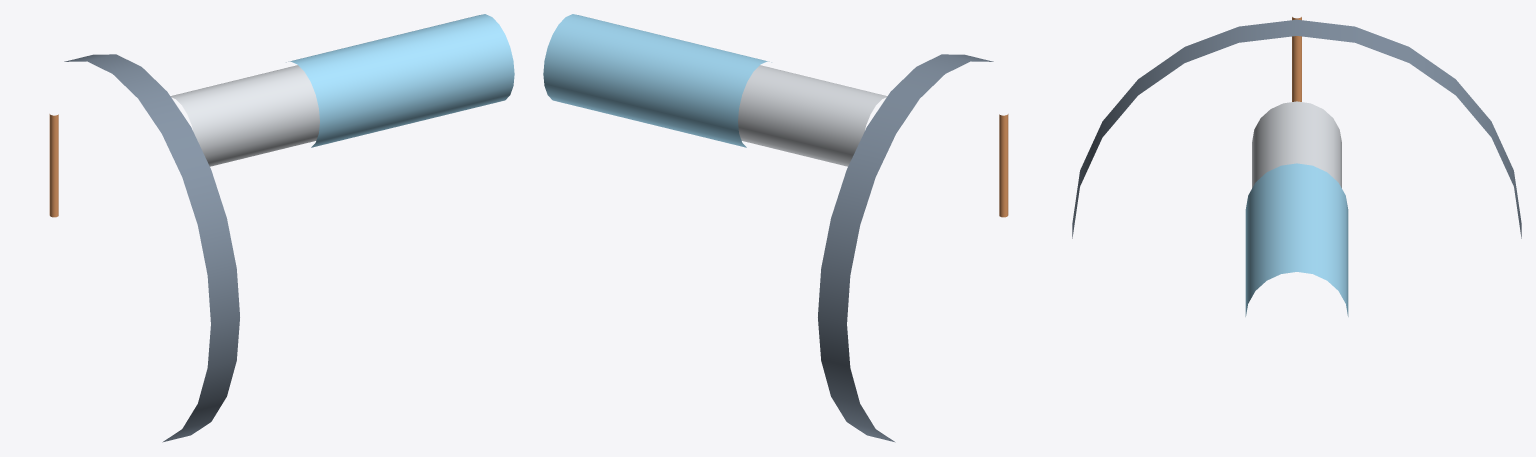
Rendered from micrometer_screw_gauge_measurement.glb.
3 views of the same model, side by side, from view 1: azimuth 30°, elevation 25°; view 2: azimuth 150°, elevation 25°; view 3: azimuth 270°, elevation 25° (orthographic). The views are drawn at different scales.
Visible parts, largest first — view 1: RotatingCircularScaleThimble, CastSteelUCurvedFrame, GraduatedMainScaleSleeve, ThinResistanceWireSpecimen; view 2: RotatingCircularScaleThimble, CastSteelUCurvedFrame, GraduatedMainScaleSleeve, ThinResistanceWireSpecimen; view 3: RotatingCircularScaleThimble, CastSteelUCurvedFrame, GraduatedMainScaleSleeve, ThinResistanceWireSpecimen.
Boxes of the visible parts, x1,y1,x2,y2 form: RotatingCircularScaleThimble: [286, 14, 514, 147]; CastSteelUCurvedFrame: [64, 54, 239, 442]; GraduatedMainScaleSleeve: [170, 65, 319, 166]; ThinResistanceWireSpecimen: [49, 114, 58, 217]; RotatingCircularScaleThimble: [543, 14, 771, 147]; CastSteelUCurvedFrame: [818, 54, 993, 442]; GraduatedMainScaleSleeve: [738, 65, 887, 166]; ThinResistanceWireSpecimen: [999, 114, 1008, 217]; RotatingCircularScaleThimble: [1245, 163, 1348, 316]; CastSteelUCurvedFrame: [1072, 19, 1521, 238]; GraduatedMainScaleSleeve: [1252, 101, 1341, 187]; ThinResistanceWireSpecimen: [1292, 17, 1301, 101].
Bounding box in the file's own units: 0.908 × 0.7 × 0.7.
